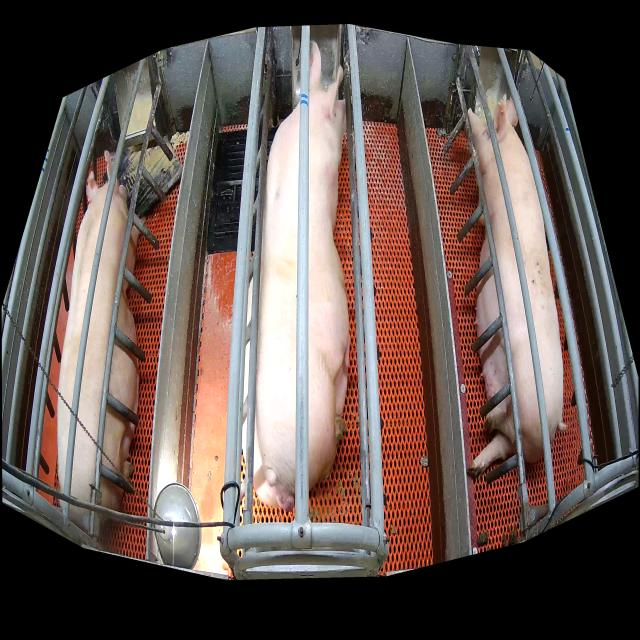pig: (242, 41, 349, 513), (466, 98, 563, 478), (57, 150, 140, 535)
